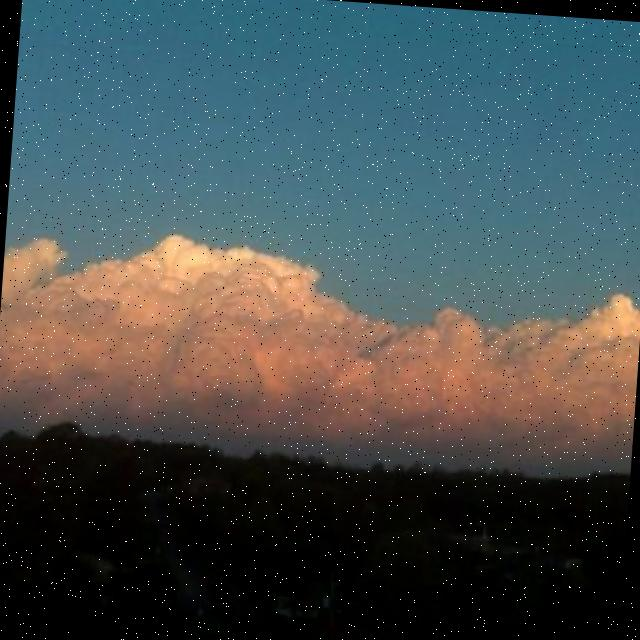Cu: (1, 152, 640, 450)
